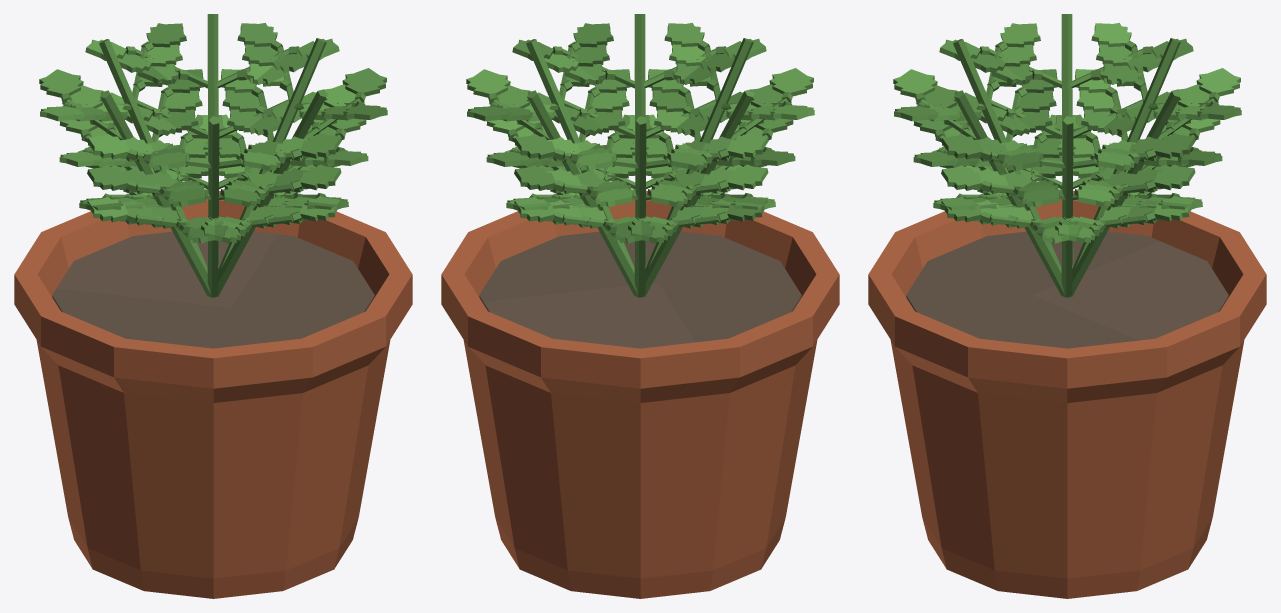
The model's file is parsley.glb.
3 renders of one model, left to right at view 1: azimuth 30°, elevation 25°; view 2: azimuth 150°, elevation 25°; view 3: azimuth 270°, elevation 25°, orthographic.
Visible parts, largest first — view 1: parsley/review-terra-vessel, parsley/review-rooted-soil, parsley/petiole-044, parsley/petiole-001, parsley/petiole-216, parsley/petiole-130, parsley/petiole-087, parsley/petiole-173, parsley/leaf-036, parsley/leaf-129, parsley/leaf-172, parsley/leaf-251 (+20 smaller); view 2: parsley/review-terra-vessel, parsley/review-rooted-soil, parsley/petiole-216, parsley/petiole-173, parsley/petiole-130, parsley/petiole-044, parsley/petiole-001, parsley/petiole-087, parsley/leaf-208, parsley/leaf-043, parsley/leaf-086, parsley/leaf-165 (+20 smaller); view 3: parsley/review-terra-vessel, parsley/review-rooted-soil, parsley/petiole-130, parsley/petiole-087, parsley/petiole-044, parsley/petiole-216, parsley/petiole-173, parsley/petiole-001, parsley/leaf-122, parsley/leaf-215, parsley/leaf-258, parsley/leaf-079 (+20 smaller).
Boxes of the visible parts, left/top/right/bottom form: parsley/review-terra-vessel: left=14, top=190, right=412, bottom=598; parsley/review-rooted-soil: left=52, top=231, right=374, bottom=348; parsley/petiole-044: left=207, top=116, right=219, bottom=297; parsley/petiole-001: left=100, top=90, right=210, bottom=296; parsley/petiole-216: left=99, top=39, right=207, bottom=273; parsley/petiole-130: left=216, top=38, right=326, bottom=296; parsley/petiole-087: left=210, top=89, right=327, bottom=296; parsley/petiole-173: left=207, top=14, right=219, bottom=268; parsley/leaf-036: left=39, top=69, right=83, bottom=97; parsley/leaf-129: left=342, top=68, right=386, bottom=96; parsley/leaf-172: left=237, top=22, right=277, bottom=46; parsley/leaf-251: left=146, top=23, right=186, bottom=47; parsley/review-terra-vessel: left=441, top=190, right=839, bottom=598; parsley/review-rooted-soil: left=479, top=231, right=801, bottom=348; parsley/petiole-216: left=634, top=116, right=646, bottom=297; parsley/petiole-173: left=527, top=90, right=637, bottom=296; parsley/petiole-130: left=526, top=39, right=634, bottom=273; parsley/petiole-044: left=643, top=38, right=753, bottom=296; parsley/petiole-001: left=637, top=89, right=754, bottom=296; parsley/petiole-087: left=634, top=14, right=646, bottom=268; parsley/leaf-208: left=466, top=69, right=510, bottom=97; parsley/leaf-043: left=769, top=68, right=813, bottom=96; parsley/leaf-086: left=664, top=22, right=704, bottom=46; parsley/leaf-165: left=573, top=23, right=613, bottom=47; parsley/review-terra-vessel: left=868, top=190, right=1266, bottom=598; parsley/review-rooted-soil: left=906, top=231, right=1228, bottom=348; parsley/petiole-130: left=1061, top=116, right=1073, bottom=297; parsley/petiole-087: left=954, top=90, right=1064, bottom=296; parsley/petiole-044: left=953, top=39, right=1061, bottom=273; parsley/petiole-216: left=1070, top=38, right=1180, bottom=296; parsley/petiole-173: left=1064, top=89, right=1181, bottom=296; parsley/petiole-001: left=1061, top=14, right=1073, bottom=268; parsley/leaf-122: left=893, top=69, right=937, bottom=97; parsley/leaf-215: left=1196, top=68, right=1240, bottom=96; parsley/leaf-258: left=1091, top=22, right=1131, bottom=46; parsley/leaf-079: left=1000, top=23, right=1040, bottom=47.
Size of the model in its own units: 0.19 by 0.2502 by 0.19.
3 materials, 3 textured.
